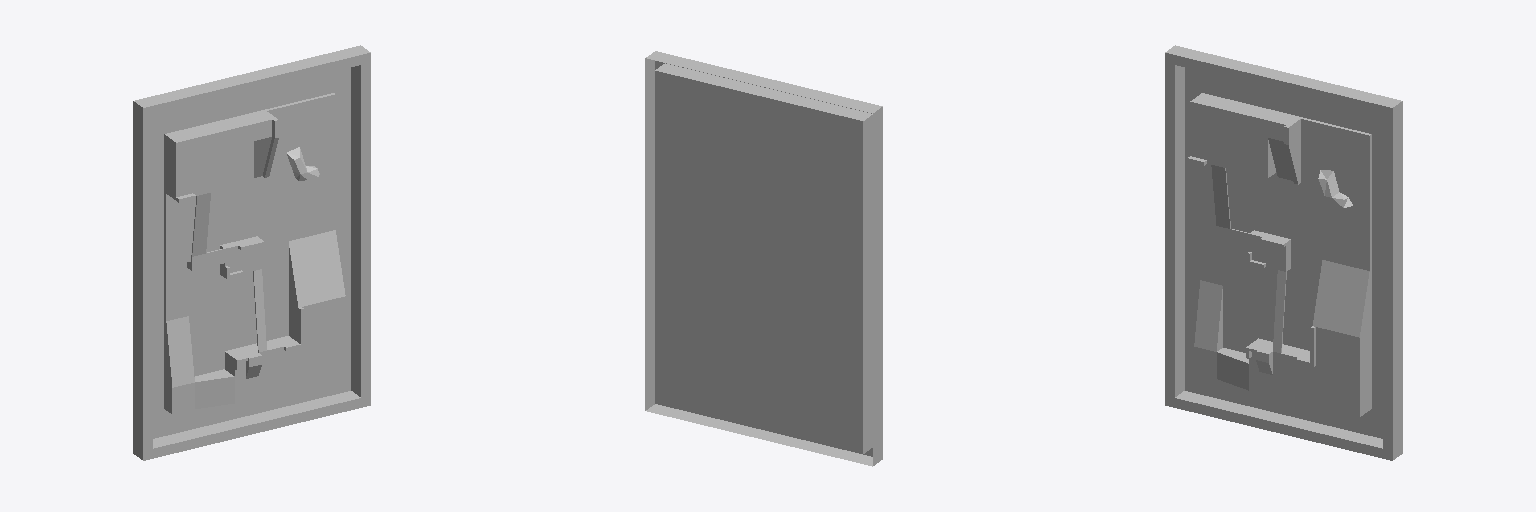
The model's file is arena_test.obj.
3 views of the same model, side by side, from view 1: azimuth 30°, elevation 25°; view 2: azimuth 150°, elevation 25°; view 3: azimuth 330°, elevation 25° (orthographic).
Visible parts, largest first — view 1: Plane.003, Plane, Cube_Cube.001, Cube.001_Cube.002, Plane.001, Cube.002_Cube.003, Plane.002, Cube.011_Cube.012; view 2: Plane.003; view 3: Plane.003, Plane, Cube_Cube.001, Cube.001_Cube.002, Plane.001, Cube.002_Cube.003, Cube.006_Cube.007, Plane.002, Cube.011_Cube.012.
Part boxes in pixels (x1,y1,x2,y2): Plane.003: (133, 45, 370, 460); Plane: (164, 93, 335, 409); Cube_Cube.001: (166, 230, 345, 414); Cube.001_Cube.002: (166, 112, 271, 199); Plane.001: (191, 193, 224, 270); Cube.002_Cube.003: (220, 236, 261, 277); Plane.002: (253, 269, 266, 352); Cube.011_Cube.012: (287, 147, 319, 180); Plane.003: (645, 51, 882, 466); Plane.003: (1165, 45, 1402, 460); Plane: (1200, 93, 1371, 409); Cube_Cube.001: (1194, 260, 1369, 417); Cube.001_Cube.002: (1190, 94, 1294, 180); Plane.001: (1211, 165, 1249, 247); Cube.002_Cube.003: (1249, 230, 1290, 271); Cube.006_Cube.007: (1284, 118, 1300, 184); Plane.002: (1273, 270, 1286, 352); Cube.011_Cube.012: (1318, 170, 1352, 207).
Bounding box in the file's own units: 127 × 189 × 17.04.